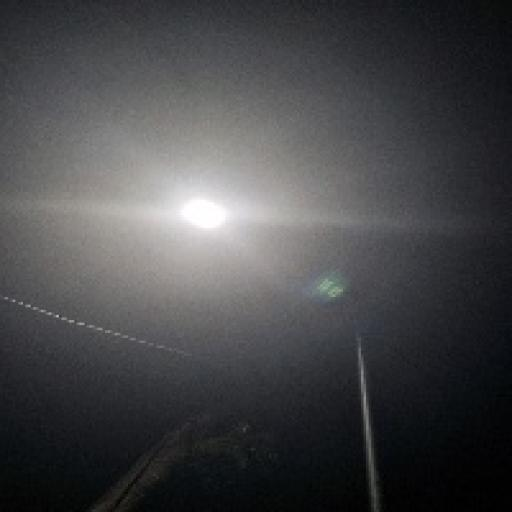Working: (173, 190, 235, 241)
